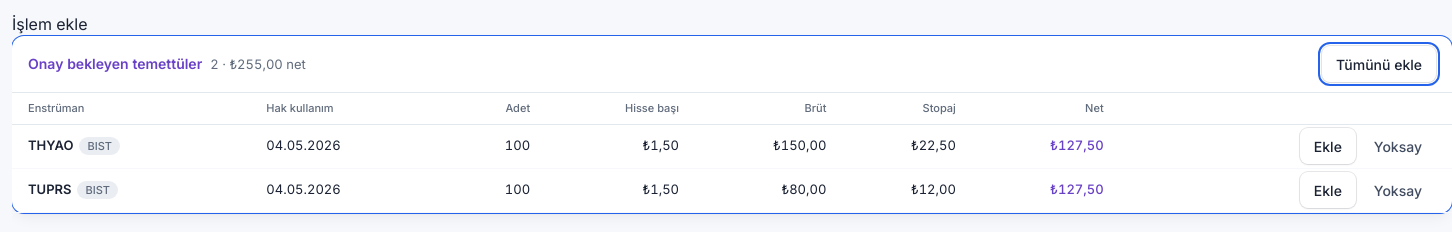
Test: ExpectedDividends › posts one dividend transaction per row on add all
Check: the heading "Onay bekleyen temettüler" is shown, box x1=28 y1=53 x2=202 y2=74
Check: the button with aria-label "THYAO 04.05.2026 temettüsünü ekle" is shown, box x1=1300 y1=128 x2=1356 y2=164
What coordinates should you click on to do the following:
click the button "Tümünü ekle"
I would click on:
 (1379, 64)
Its box is x1=1322 y1=46 x2=1436 y2=82.
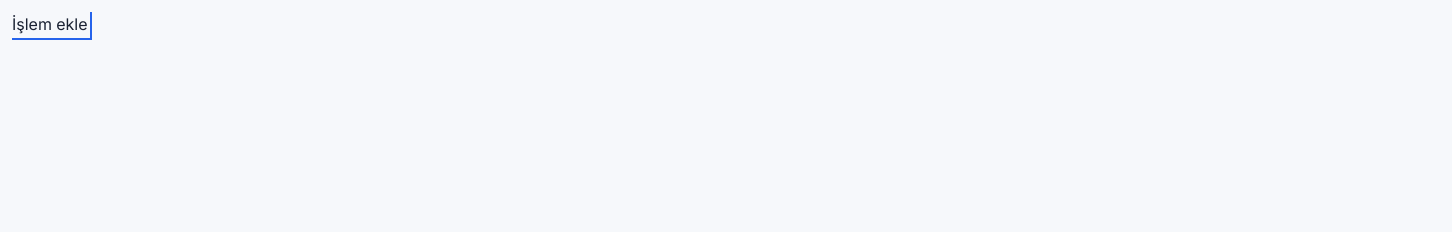
Check: the heading "Onay bekleyen temettüler" is gone
